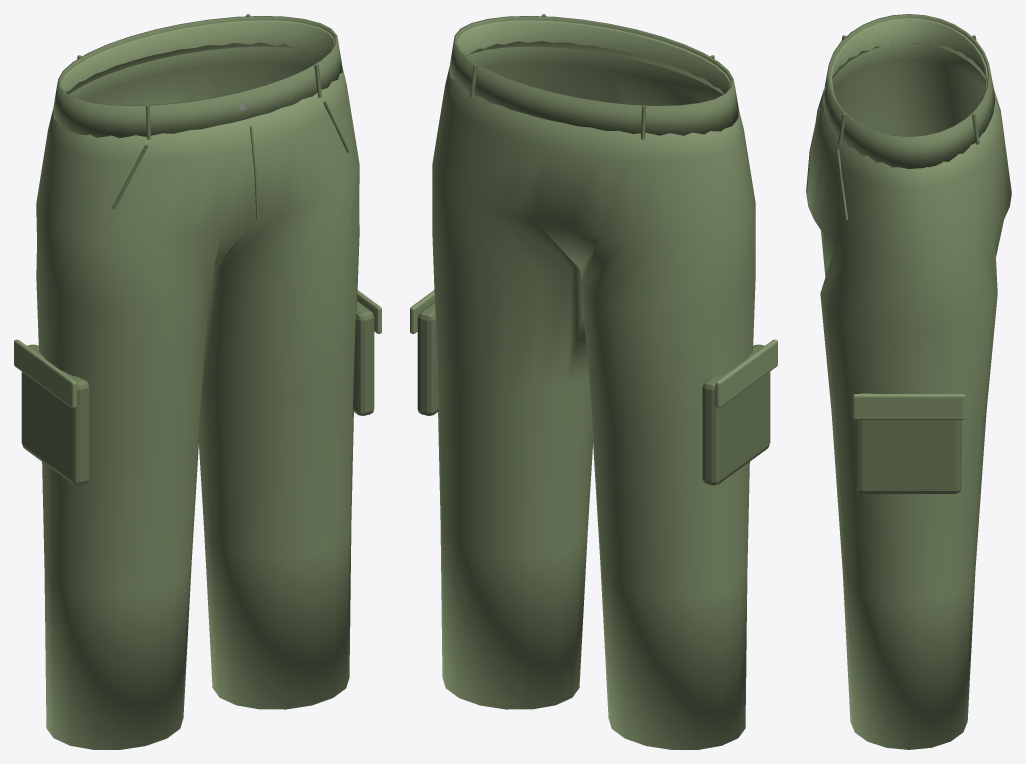
Rendered from pants_cargo.glb.
3 views of the same model, side by side, from view 1: azimuth 30°, elevation 25°; view 2: azimuth 150°, elevation 25°; view 3: azimuth 270°, elevation 25° (orthographic). The views are drawn at different scales.
Parts seen in each view (by area): view 1: Cargo_Pants_Connected_Hips_And_Legs, Cargo_Pants_Waistband, Cargo_Thigh_Pocket, Cargo_Thigh_Pocket.001, Cargo_Pocket_Flap; view 2: Cargo_Pants_Connected_Hips_And_Legs, Cargo_Pants_Waistband, Cargo_Thigh_Pocket, Cargo_Thigh_Pocket.001, Cargo_Pocket_Flap; view 3: Cargo_Pants_Connected_Hips_And_Legs, Cargo_Thigh_Pocket.001, Cargo_Pants_Waistband, Cargo_Pocket_Flap.001.
Part boxes in pixels (bbox=[...]): Cargo_Pants_Connected_Hips_And_Legs: bbox=[36, 20, 359, 749]; Cargo_Pants_Waistband: bbox=[53, 16, 342, 138]; Cargo_Thigh_Pocket: bbox=[21, 344, 89, 485]; Cargo_Thigh_Pocket.001: bbox=[353, 301, 374, 415]; Cargo_Pocket_Flap: bbox=[14, 339, 76, 408]; Cargo_Pants_Connected_Hips_And_Legs: bbox=[432, 20, 755, 749]; Cargo_Pants_Waistband: bbox=[449, 16, 738, 135]; Cargo_Thigh_Pocket: bbox=[702, 344, 770, 485]; Cargo_Thigh_Pocket.001: bbox=[417, 301, 438, 415]; Cargo_Pocket_Flap: bbox=[715, 339, 777, 408]; Cargo_Pants_Connected_Hips_And_Legs: bbox=[806, 18, 1011, 749]; Cargo_Thigh_Pocket.001: bbox=[856, 393, 961, 493]; Cargo_Pants_Waistband: bbox=[823, 14, 995, 168]; Cargo_Pocket_Flap.001: bbox=[853, 394, 965, 419].
Bounding box in the file's own units: 0.486 × 0.9615 × 0.2948.
